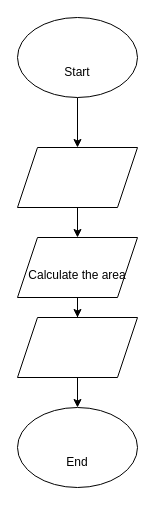
This 155x505 diagram has some shape labels left out. Each missing label, with the centre of its shape:
Display Area: the point at 77,347
Input:Radius: the point at 77,177
